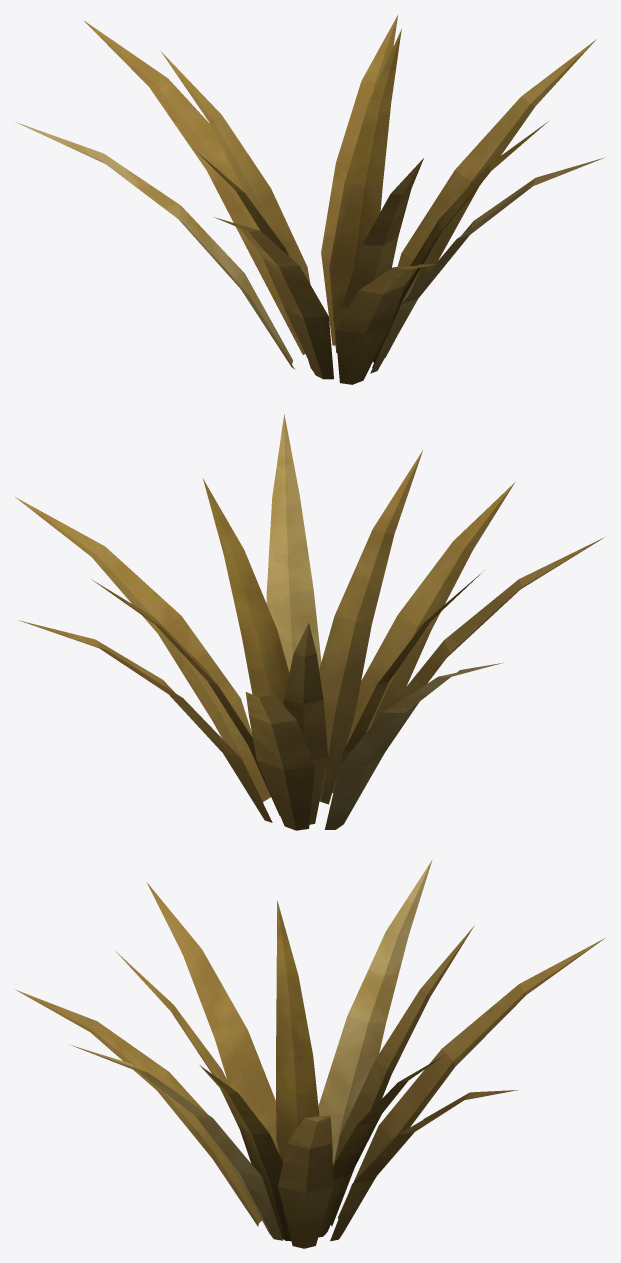
Rendered from grass_dry.glb.
3 views of the same model, one above another, from view 1: azimuth 30°, elevation 25°; view 2: azimuth 150°, elevation 25°; view 3: azimuth 270°, elevation 25° (orthographic). The views are drawn at different scales.
Parts seen in each view (by area): view 1: Static_Mesh; view 2: Static_Mesh; view 3: Static_Mesh.
Boxes of the visible parts, bbox=[...] form: Static_Mesh: bbox=[15, 14, 604, 384]; Static_Mesh: bbox=[15, 414, 604, 830]; Static_Mesh: bbox=[15, 860, 604, 1248].
Bounding box in the file's own units: 1.77 × 0.9053 × 1.78.
Materials: 1 (1 with a texture image).
